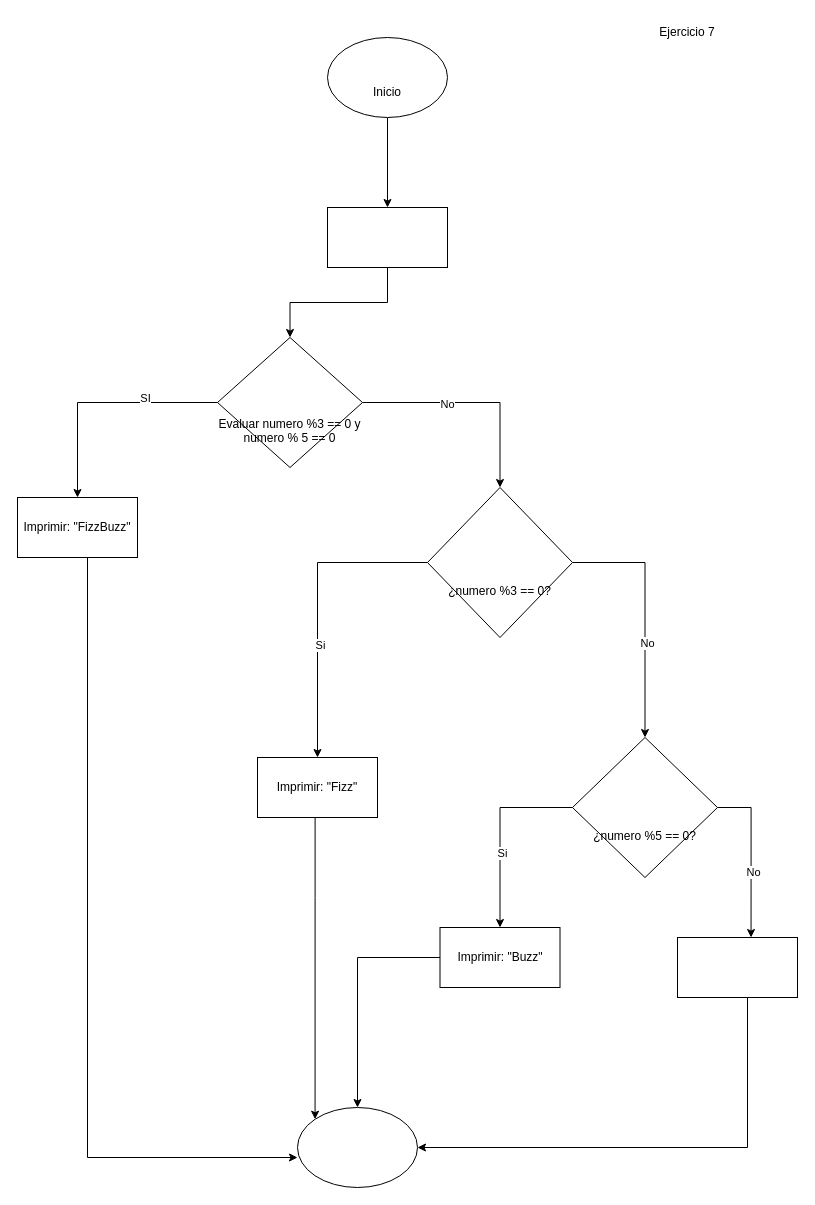
Some shapes in this 815 by 1205 pixel diagram are drawn without their labels. The shapes that lost their labels are listed below. From the top down, each one's centre as x and y in pixels, then its label:
point 387,237: Ingresar un numero entero
point 737,967: Imprimir: "No es multiplo de 3 ni de 5"
point 357,1147: FIn
